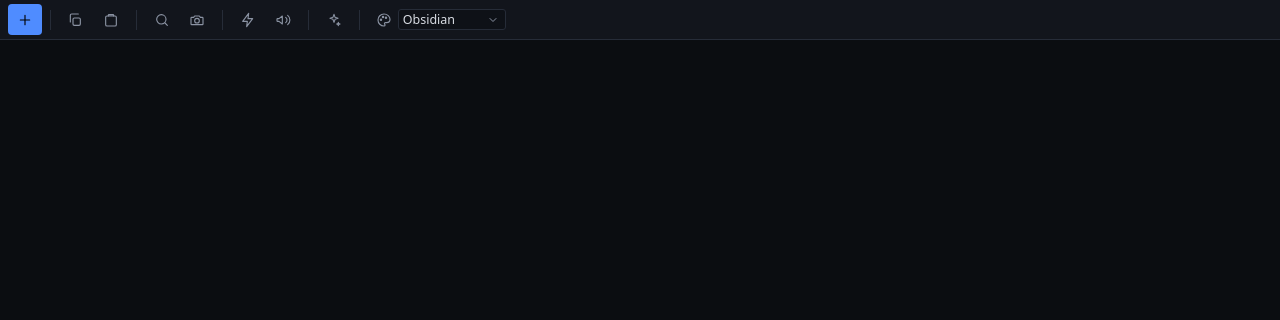
Test case: 右键菜单：勾选显示哪些按钮（出口第 17 项） › 菜单列出全部项，包括已经隐藏的
Right-click the element with test id "toolbar".
right_click(640, 20)  # box [0,0,1279,40]
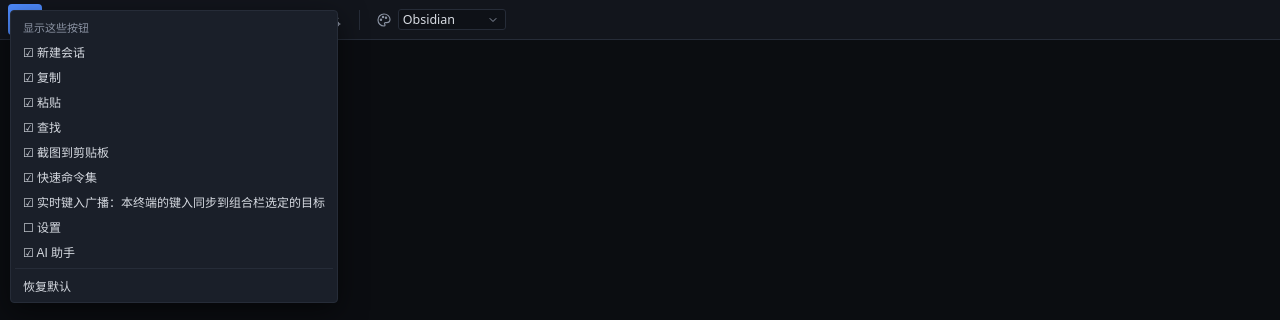
Result: the menu item with test id "tb-toggle-tools.settings" is shown at [15,214,333,239]
